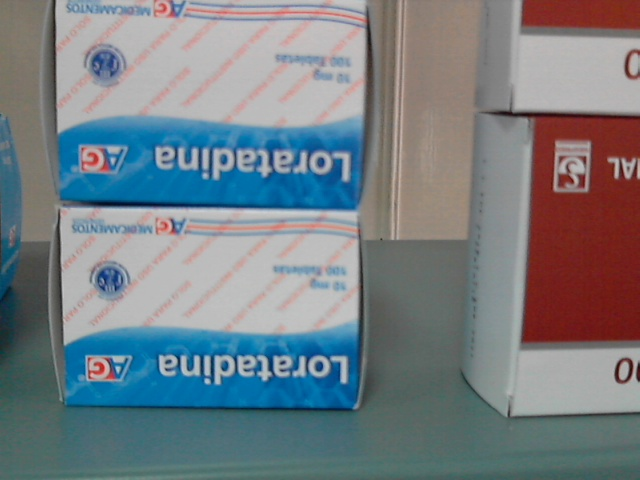AG: (56, 1, 364, 207), (60, 207, 358, 407)
